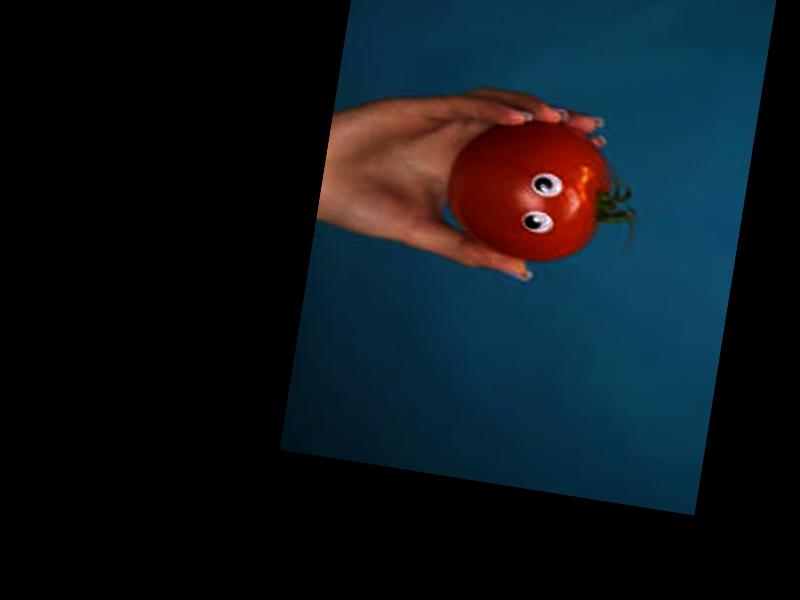Tomato: (437, 106, 620, 273)
